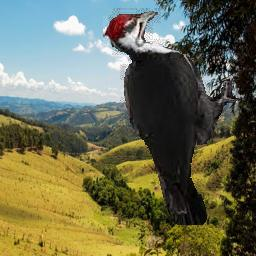Woodpecker: (103, 9, 239, 226)
